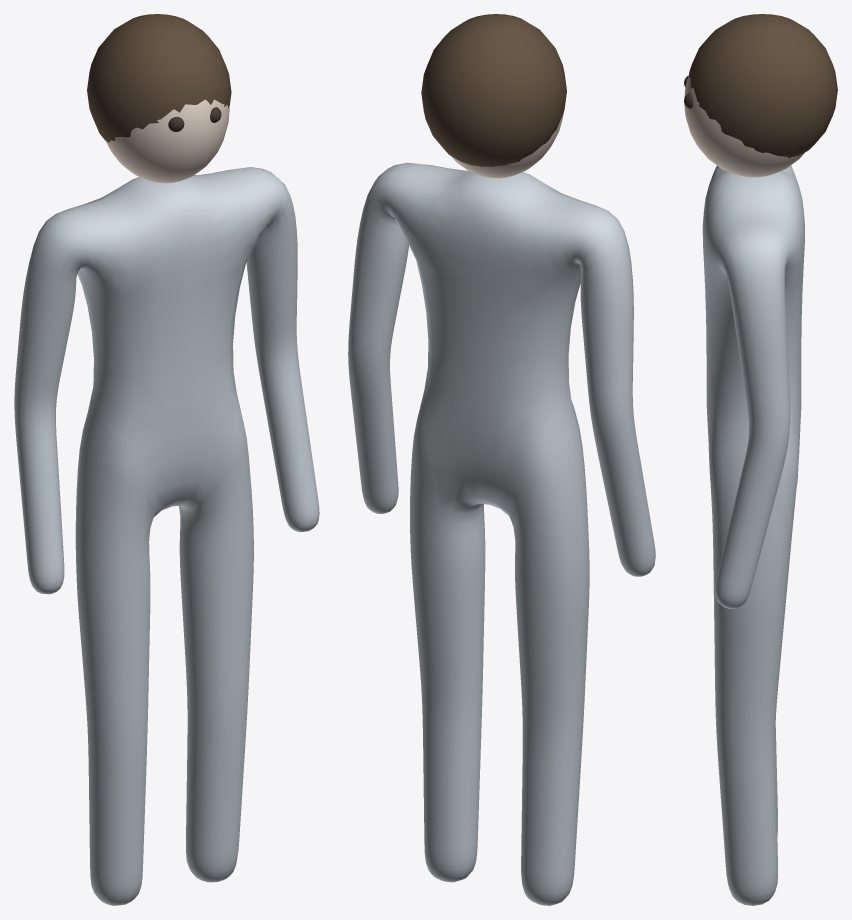
Rendered from kid_stand.glb.
3 views of the same model, side by side, from view 1: azimuth 30°, elevation 25°; view 2: azimuth 150°, elevation 25°; view 3: azimuth 270°, elevation 25° (orthographic).
Parts seen in each view (by area): view 1: body, hair, head; view 2: body, hair, head; view 3: body, hair, head.
Boxes of the visible parts, left/top/right/bottom form: body: left=14, top=167, right=319, bottom=905; hair: left=87, top=14, right=231, bottom=142; head: left=105, top=99, right=229, bottom=183; body: left=348, top=162, right=655, bottom=905; hair: left=421, top=14, right=566, bottom=166; head: left=451, top=112, right=563, bottom=178; body: left=702, top=165, right=804, bottom=905; hair: left=688, top=14, right=837, bottom=157; head: left=684, top=76, right=804, bottom=177.
Size of the model in its own units: 0.3707 by 1.08 by 0.1745.
